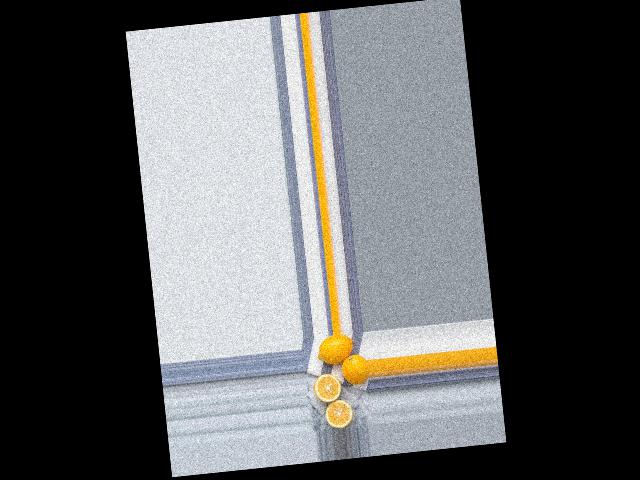lemon: (341, 353, 369, 382)
